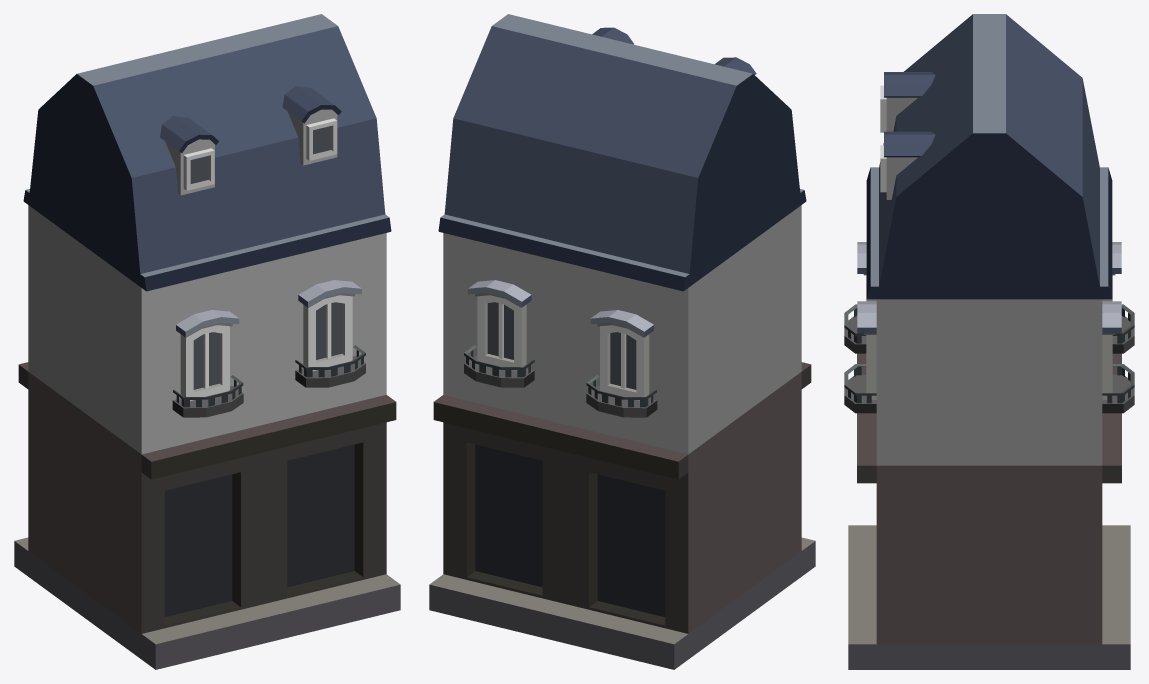
File: TB_CITY_BD_R_Line_2_B.FBX
3 views of the same model, side by side, from view 1: azimuth 30°, elevation 25°; view 2: azimuth 150°, elevation 25°; view 3: azimuth 270°, elevation 25° (orthographic).
Parts seen in each view (by area): view 1: TB_CITY_BD_R_Line_2_B; view 2: TB_CITY_BD_R_Line_2_B; view 3: TB_CITY_BD_R_Line_2_B.
Boxes of the visible parts, left/top/right/bottom form: TB_CITY_BD_R_Line_2_B: left=14, top=14, right=400, bottom=669; TB_CITY_BD_R_Line_2_B: left=429, top=14, right=815, bottom=669; TB_CITY_BD_R_Line_2_B: left=844, top=14, right=1134, bottom=669.
Size of the model in its own units: 7.99 by 16.78 by 8.22.
